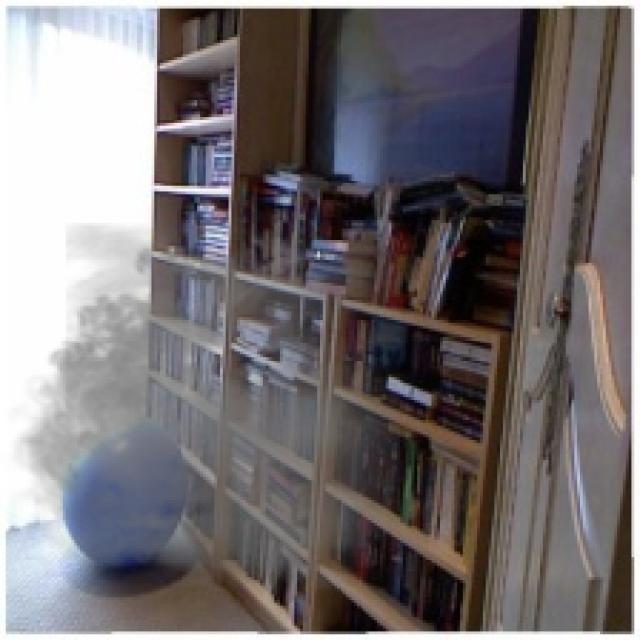Smoke: (0, 223, 400, 592)
